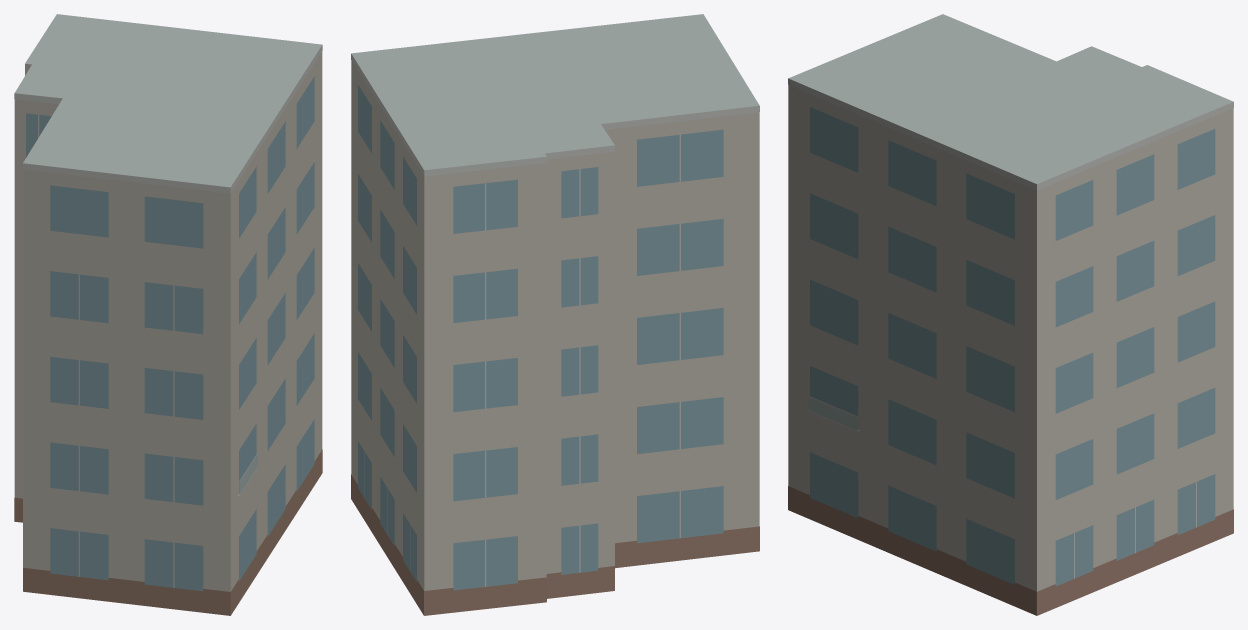
Rendered from survey-upis-32687993.glb.
The picture shows the model from 3 angles, left to right: view 1: azimuth 30°, elevation 25°; view 2: azimuth 150°, elevation 25°; view 3: azimuth 270°, elevation 25°; orthographic projection. The views are drawn at different scales.
Visible parts, largest first — view 1: survey-upis-32687993.tmp; view 2: survey-upis-32687993.tmp; view 3: survey-upis-32687993.tmp.
Part boxes in pixels (x1,y1,x2,y2): survey-upis-32687993.tmp: (14,14,322,615); survey-upis-32687993.tmp: (351,14,759,615); survey-upis-32687993.tmp: (788,14,1233,615).
Bounding box in the file's own units: 14.38 × 17 × 15.91.
